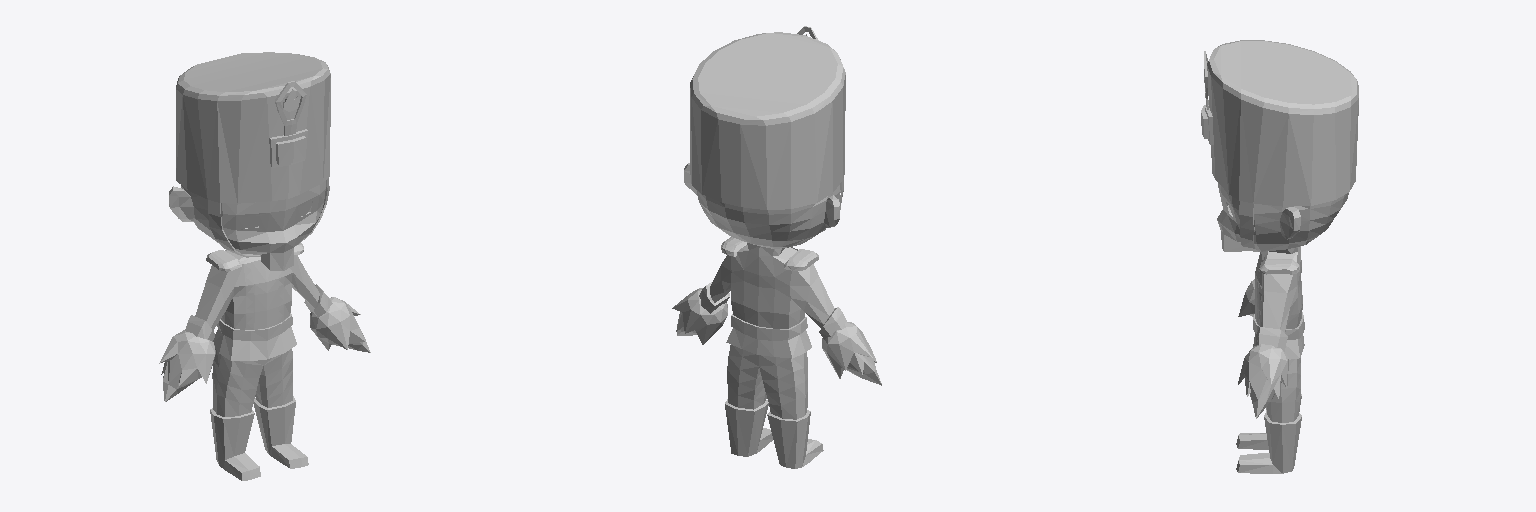
File: Boss_sub_0.obj
3 renders of one model, left to right at view 1: azimuth 30°, elevation 25°; view 2: azimuth 150°, elevation 25°; view 3: azimuth 270°, elevation 25°, orthographic.
Parts seen in each view (by area): view 1: CUERPO.001, CASCO.001, FIRE.001; view 2: CASCO.001, CUERPO.001, FIRE.001; view 3: CASCO.001, CUERPO.001, FIRE.001.
Boxes of the visible parts, x1=… form: CUERPO.001: x1=169, y1=181, x2=332, y2=480; CASCO.001: x1=176, y1=52, x2=330, y2=257; FIRE.001: x1=159, y1=297, x2=370, y2=401; CASCO.001: x1=690, y1=26, x2=845, y2=232; CUERPO.001: x1=684, y1=163, x2=846, y2=468; FIRE.001: x1=672, y1=288, x2=881, y2=385; CASCO.001: x1=1201, y1=40, x2=1358, y2=251; CUERPO.001: x1=1217, y1=183, x2=1348, y2=473; FIRE.001: x1=1238, y1=279, x2=1288, y2=418.
Size of the model in its own units: 3.77 by 7.08 by 2.51.